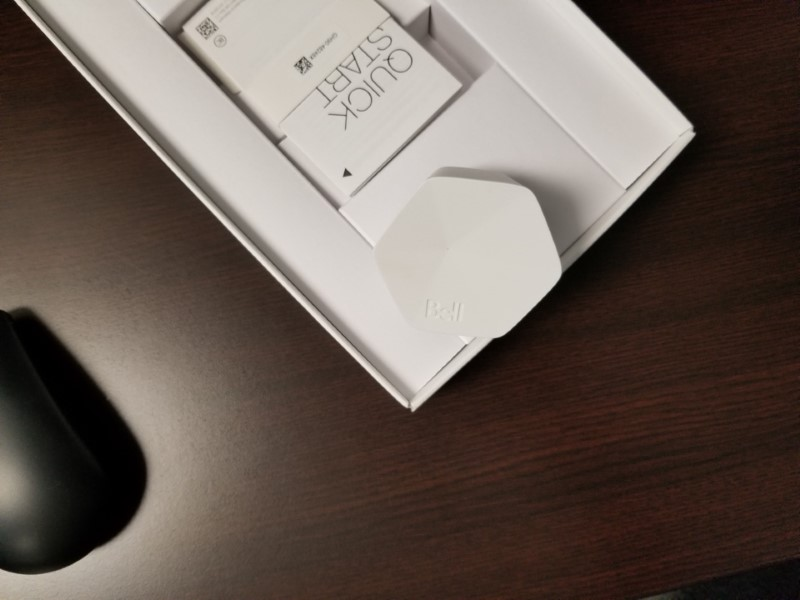pod: (371, 164, 568, 341)
